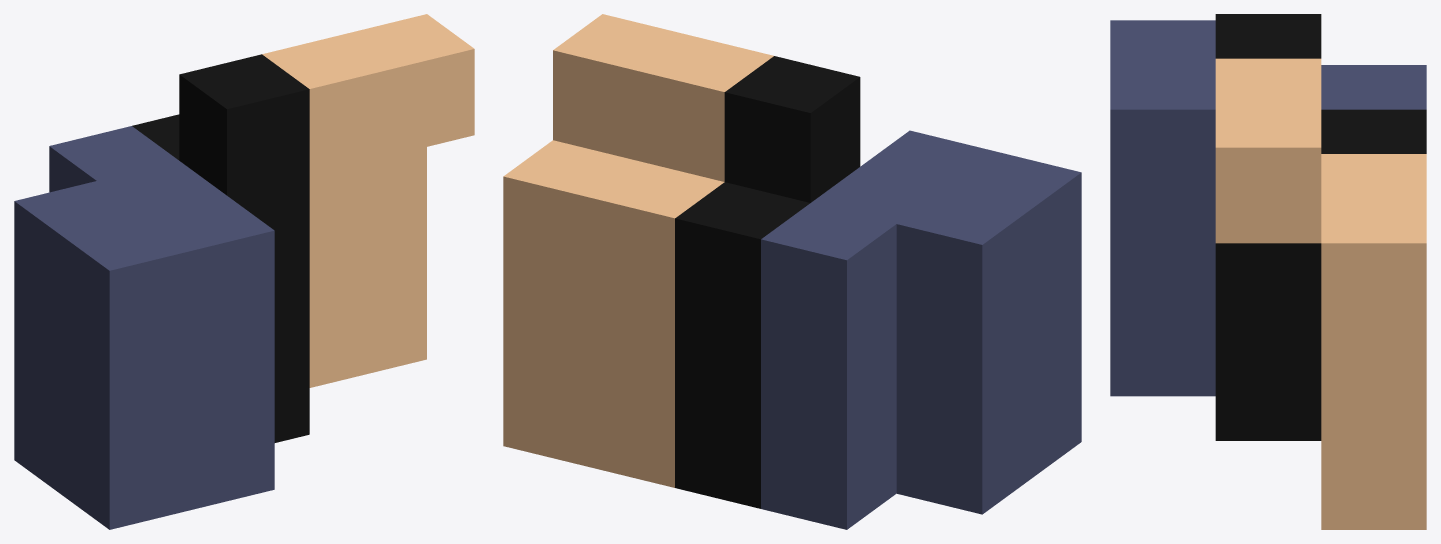
Rendered from Caixa distracao-0.obj.
The picture shows the model from 3 angles, left to right: view 1: azimuth 30°, elevation 25°; view 2: azimuth 150°, elevation 25°; view 3: azimuth 270°, elevation 25°; orthographic projection. The views are drawn at different scales.
Bounding box in the file's own units: 0.5 × 0.4 × 0.3.
